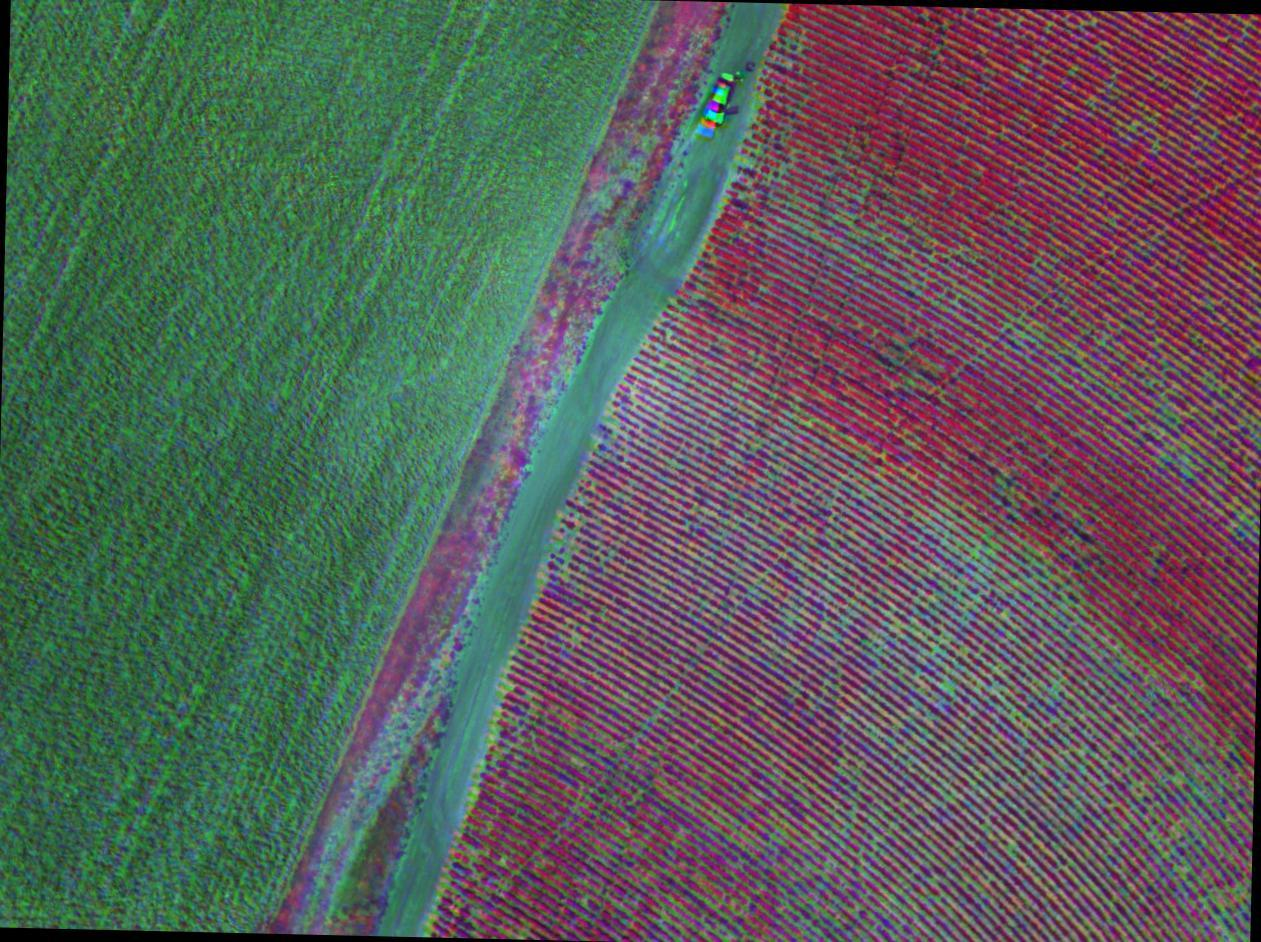dc: (945, 682, 953, 690), (741, 158, 748, 164), (506, 685, 512, 691), (1177, 776, 1183, 781)
